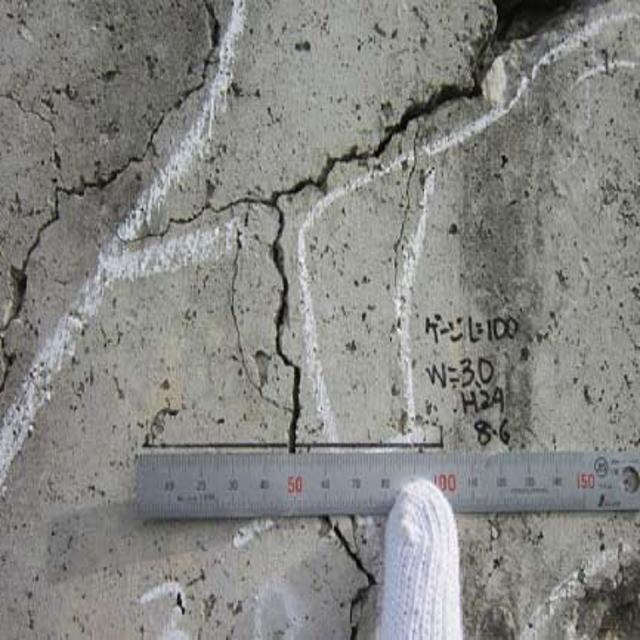crack: (14, 13, 533, 431), (298, 519, 388, 634)
